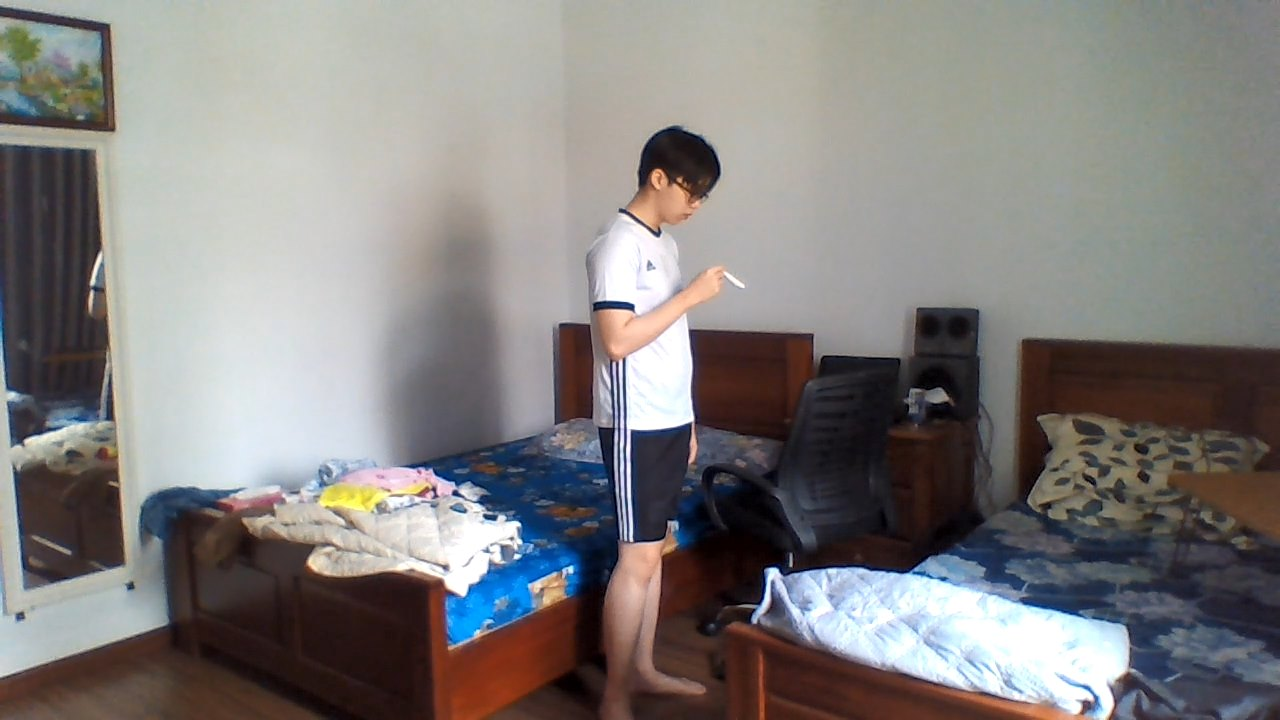cigarette: (724, 272, 747, 292)
person: (567, 103, 731, 715)
